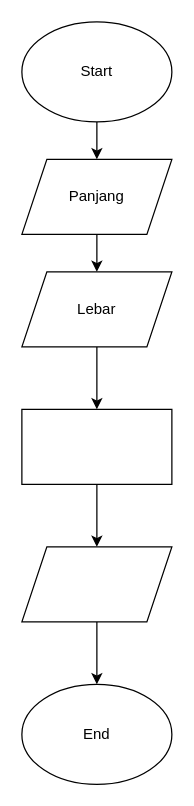
This 194x806 diagram has some shape labels left out. The shapes that lost their labels are listed below. From the top down, each one's centre as x and y in pixels, then its label:
At (x=96, y=446): "Kalkulasi Area x Lebar".
At (x=96, y=584): "Hasil".
